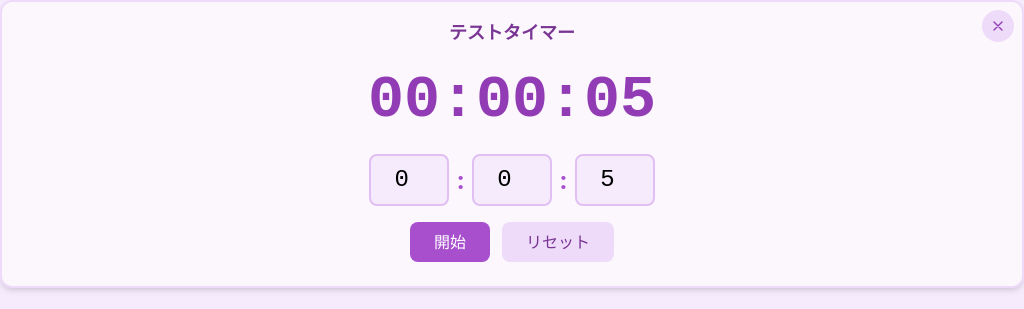
TimerCard › 3.1 個別タイマーの表示と状態管理 › 開始ボタンをクリックするとカウントダウンが開始される
Click the button with test id "start-button".
click(450, 242)  # box [410,222,490,262]
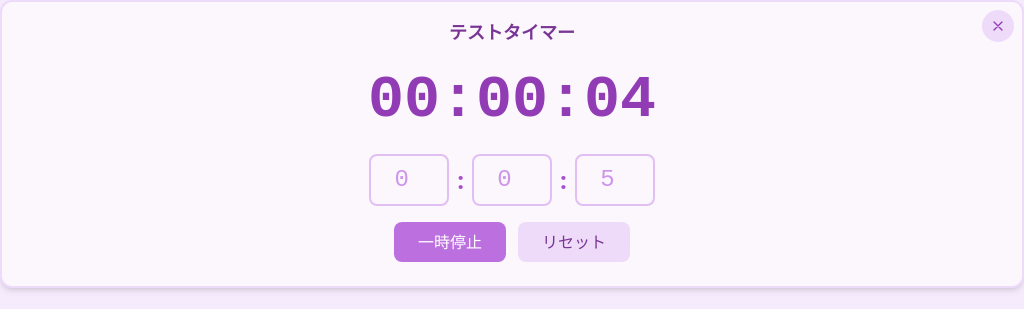
Check: the text with test id "timer-display" reads "00:00:04", box [368,66,656,134]
